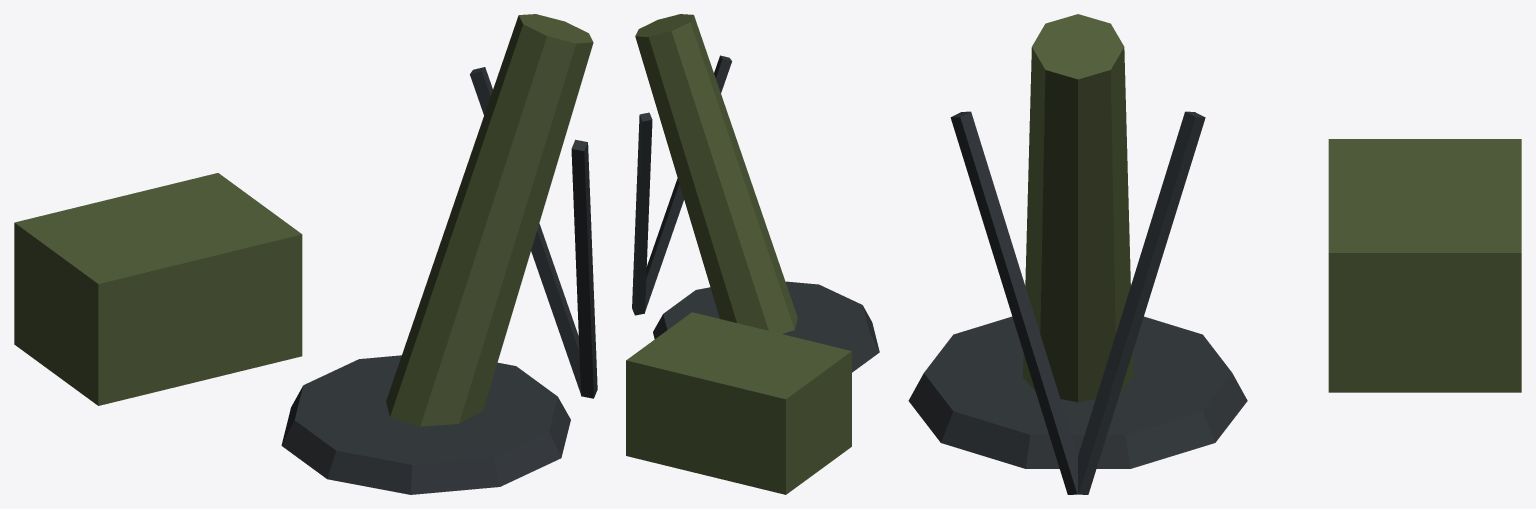
Rendered from Mortar.glb.
3 renders of one model, left to right at view 1: azimuth 30°, elevation 25°; view 2: azimuth 150°, elevation 25°; view 3: azimuth 270°, elevation 25°, orthographic. The views are drawn at different scales.
Parts seen in each view (by area): view 1: Mortar; view 2: Mortar; view 3: Mortar.
Part boxes in pixels (x1,y1,x2,y2): Mortar: (14,14,597,494); Mortar: (626,14,879,494); Mortar: (908,14,1521,494).
Bounding box in the file's own units: 13.37 × 13.12 × 15.9.
